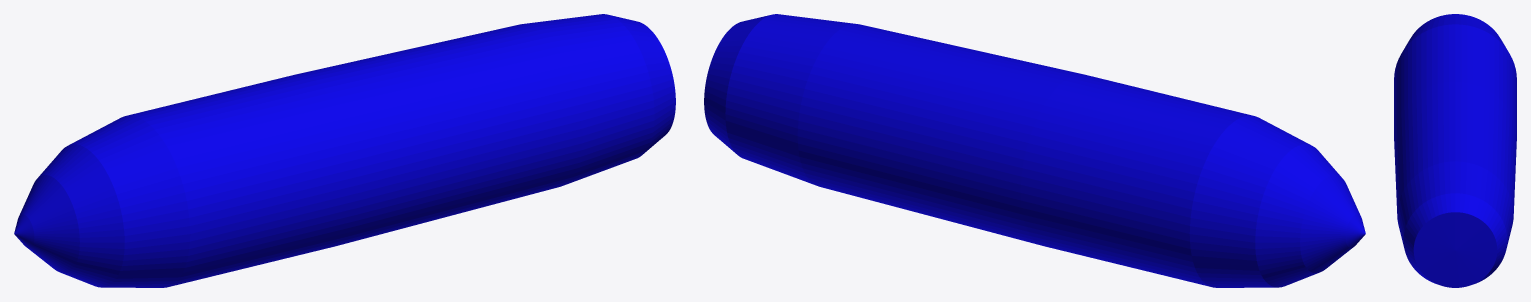
Rendered from Bullet_Mesh.dae.
3 views of the same model, side by side, from view 1: azimuth 30°, elevation 25°; view 2: azimuth 150°, elevation 25°; view 3: azimuth 270°, elevation 25° (orthographic). The views are drawn at different scales.
Visible parts, largest first — view 1: Bullet_Shape; view 2: Bullet_Shape; view 3: Bullet_Shape.
Boxes of the visible parts, left/top/right/bottom form: Bullet_Shape: left=14, top=14, right=675, bottom=287; Bullet_Shape: left=704, top=14, right=1365, bottom=287; Bullet_Shape: left=1394, top=14, right=1516, bottom=287.
Bounding box in the file's own units: 8.29 × 2 × 2.
